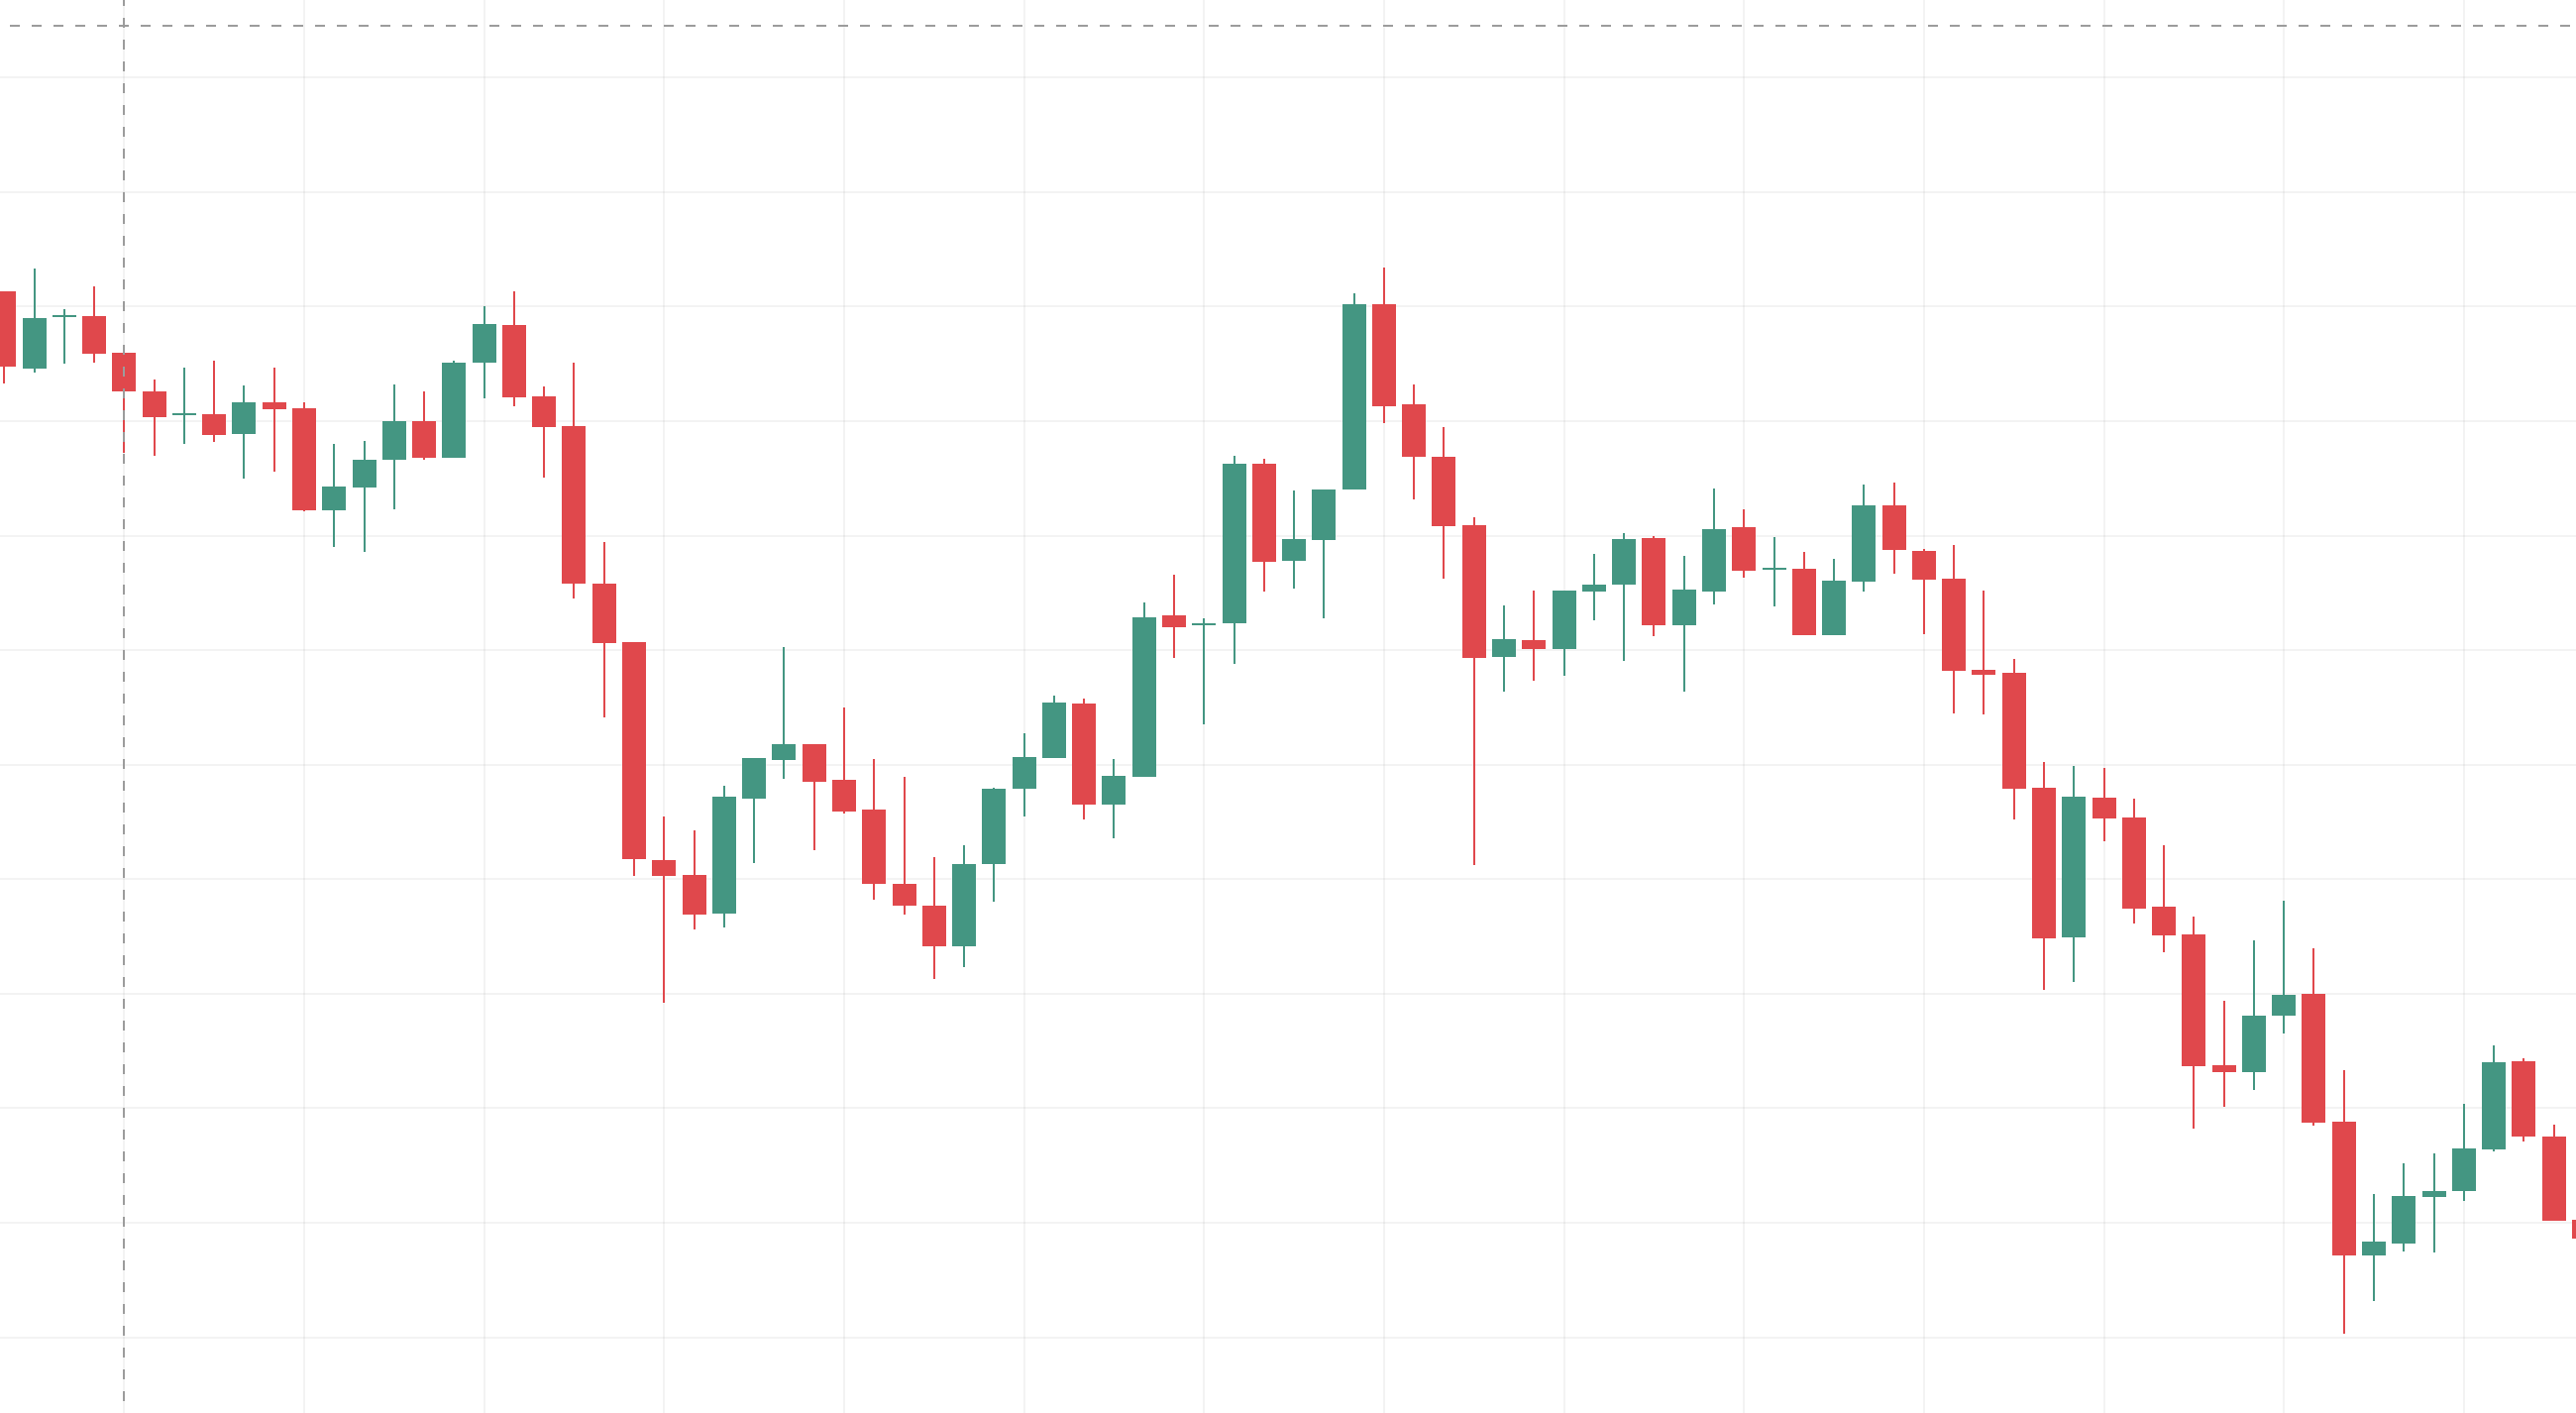V-turn: (490, 237, 802, 1102)
